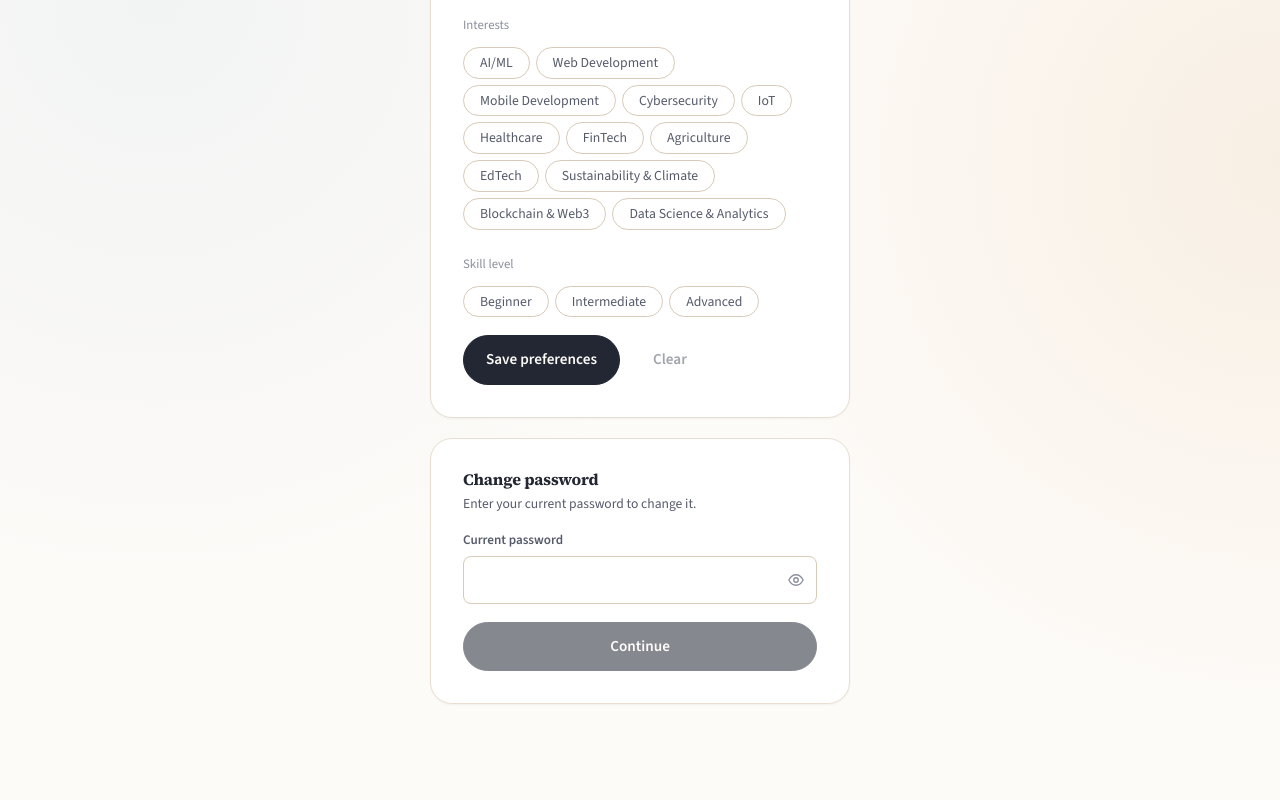
Scenario: Profile — change password gate › shows an error and keeps new-password fields hidden when the current password is wrong
(page scrolled)
Type "wrong-one" into the password field labelled "Current password" at {"x": 640, "y": 580}, box [463,556,817,604]
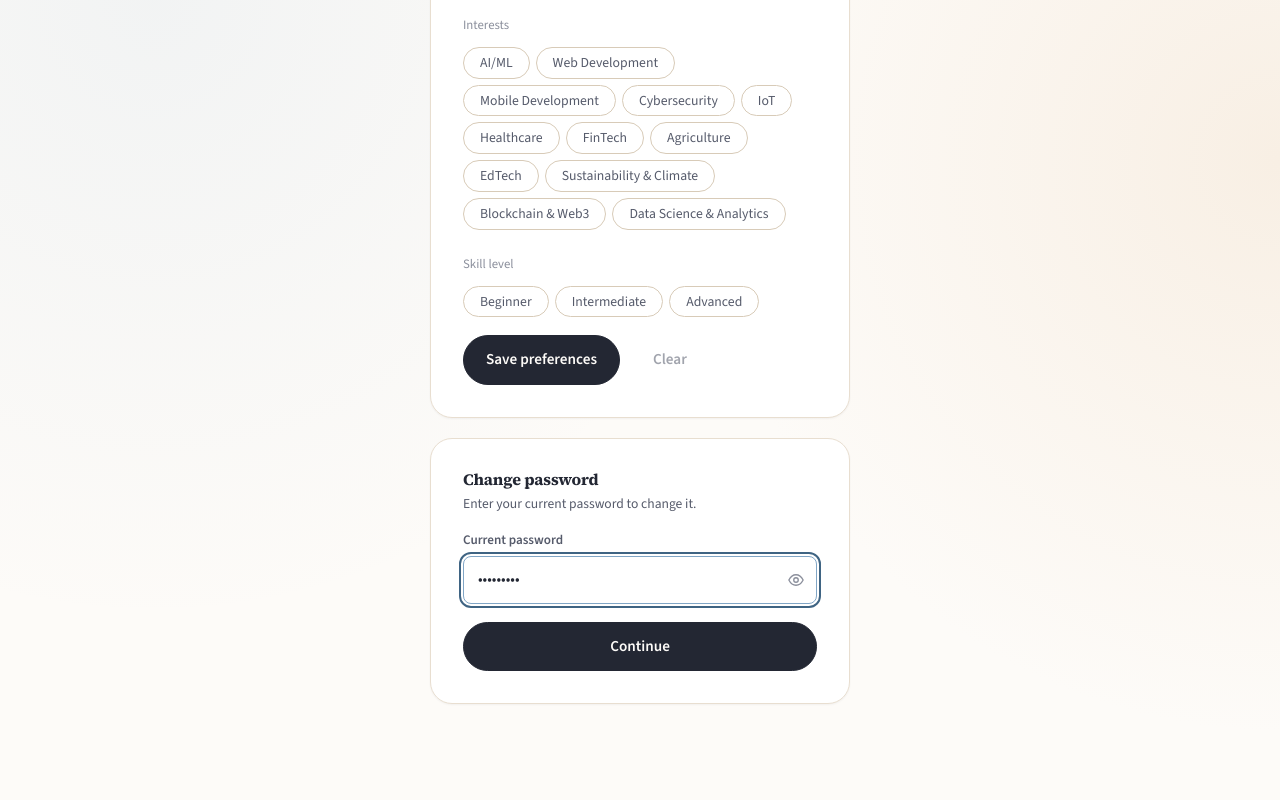
Click the button "Continue" at {"x": 640, "y": 646}, box [463,622,817,671]
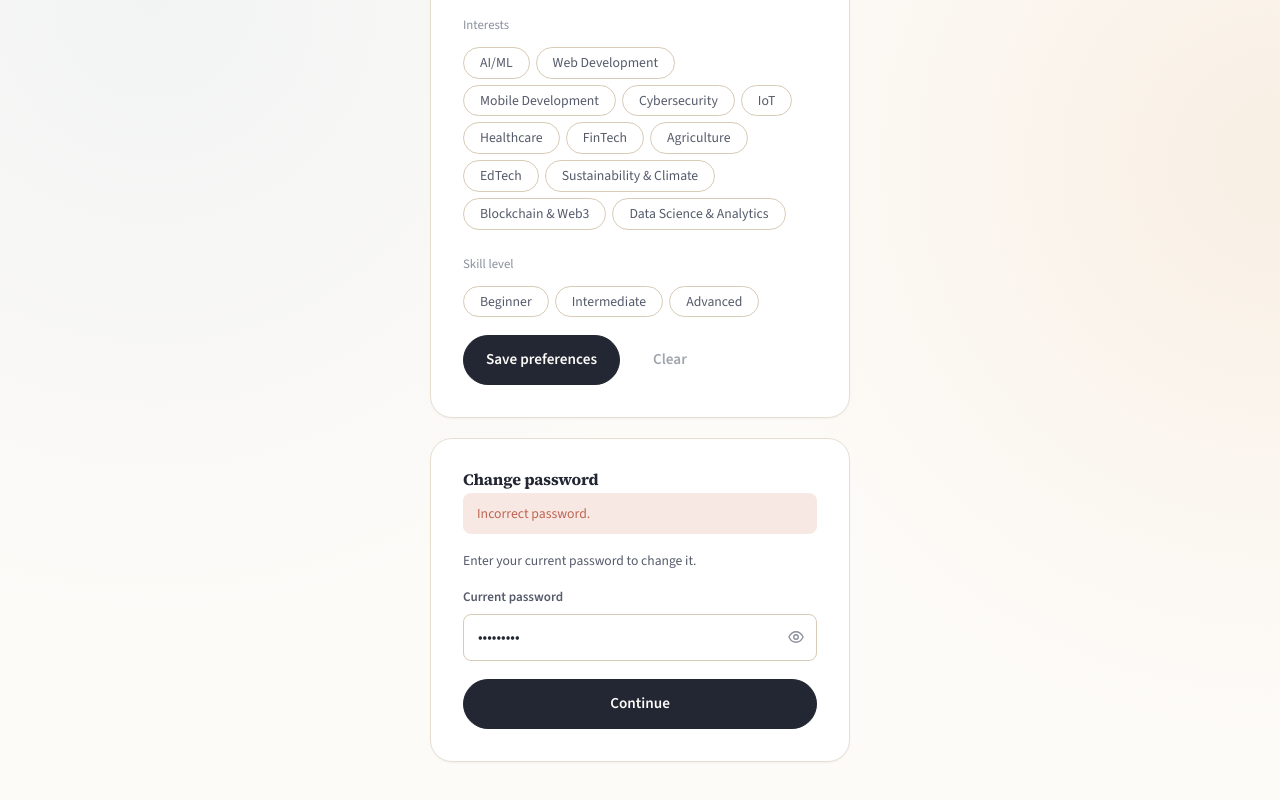
expect the text "Incorrect password." is shown: met, box [463,493,817,534]
